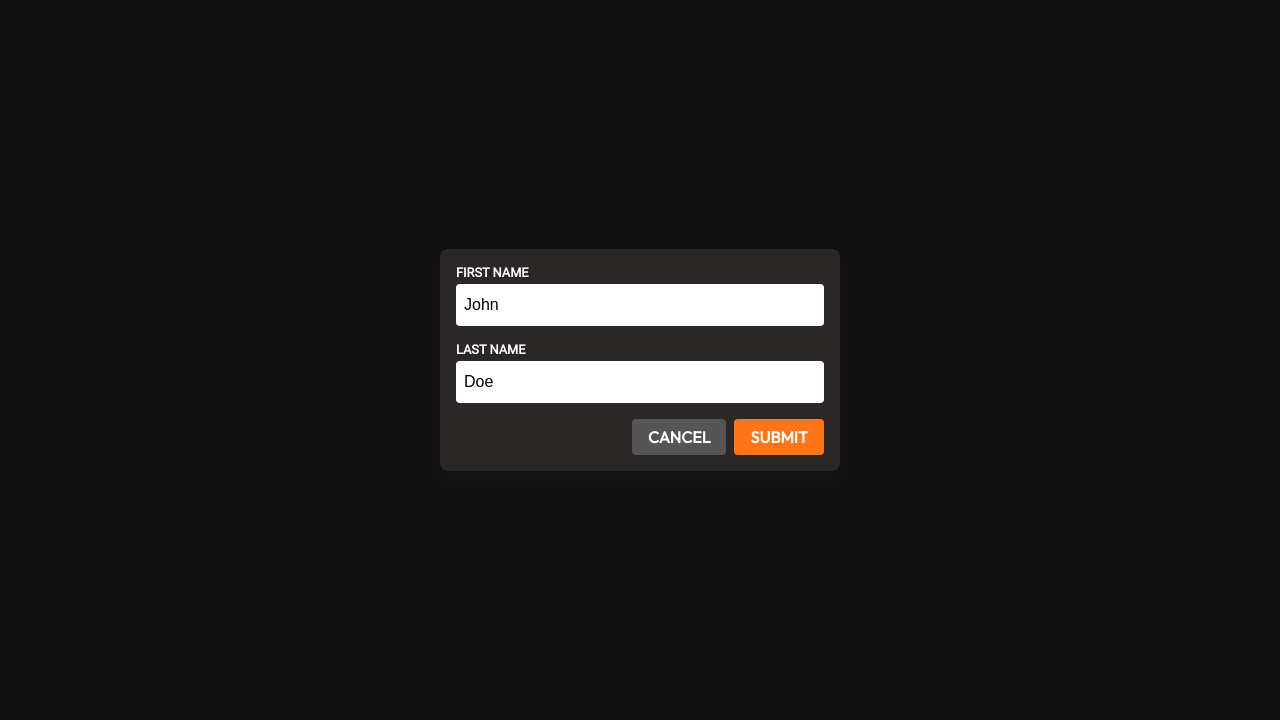
Test case: ChangeNameForm › shows error message on api invalid input error
This screenshot has width=1280, height=720.
Replace the text in the field labelled "FIRST NAME" with "A" at (640, 305), box [456,284,824,326]
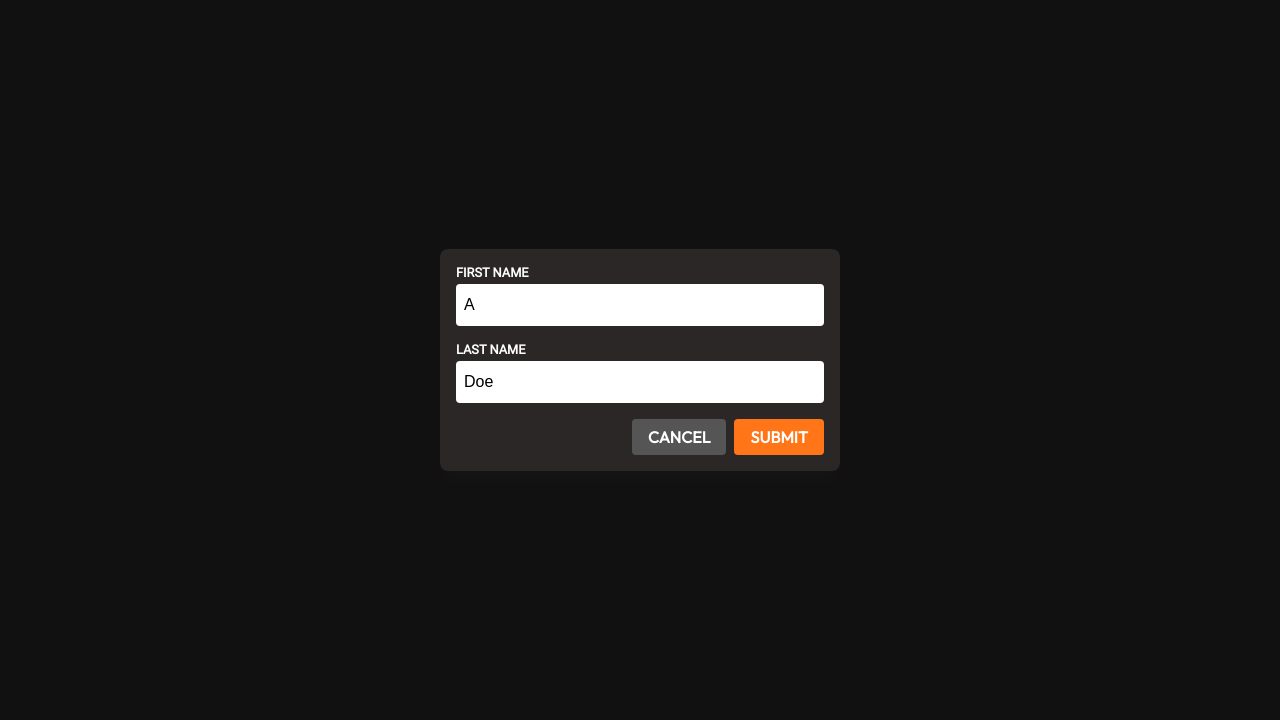
Replace the text in the field labelled "LAST NAME" with "B" at (640, 382), box [456,361,824,403]
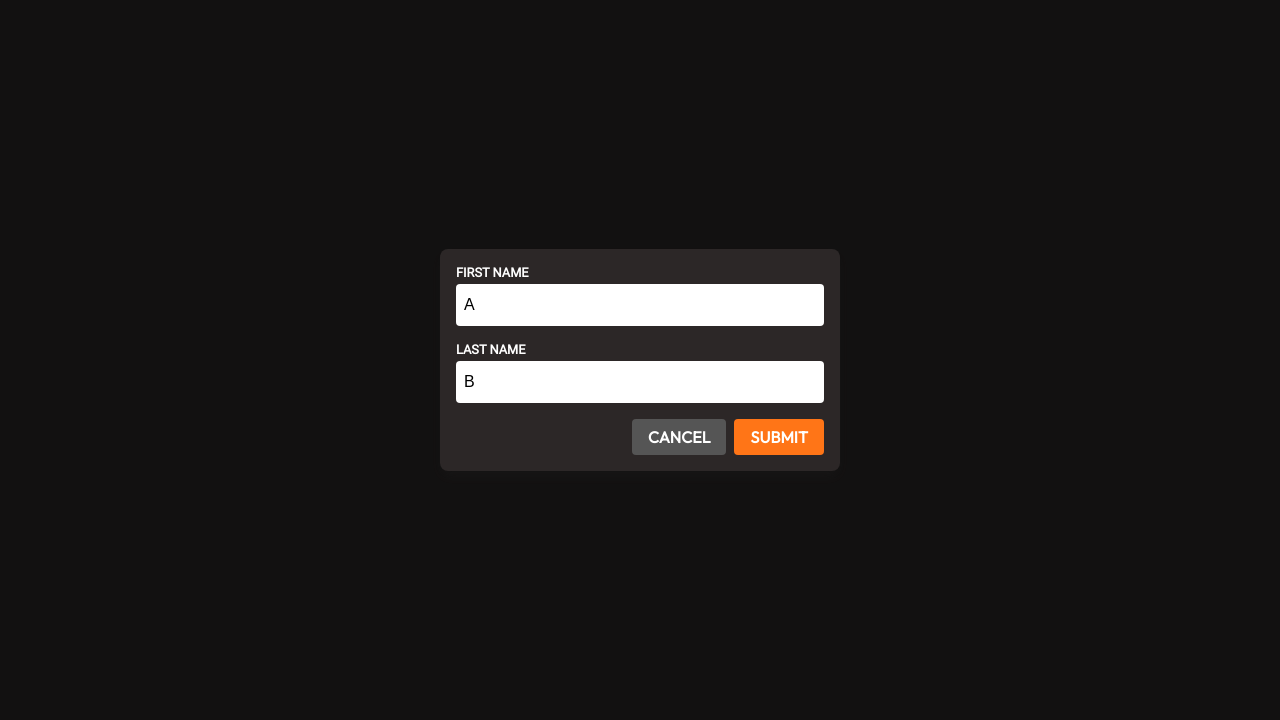
Click the button "SUBMIT" at (779, 437), box [734,419,824,455]
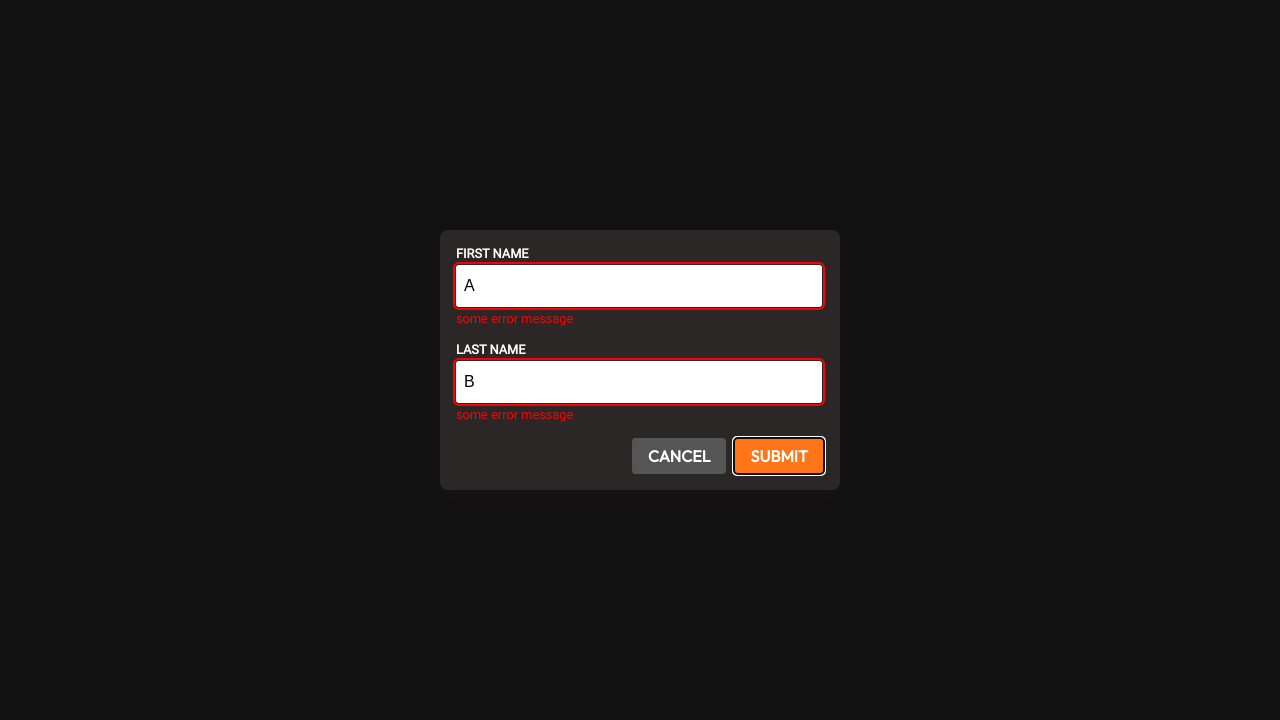
Result: the text "some error message" is shown 2 times at [456,311,573,326]; [456,407,573,422]
